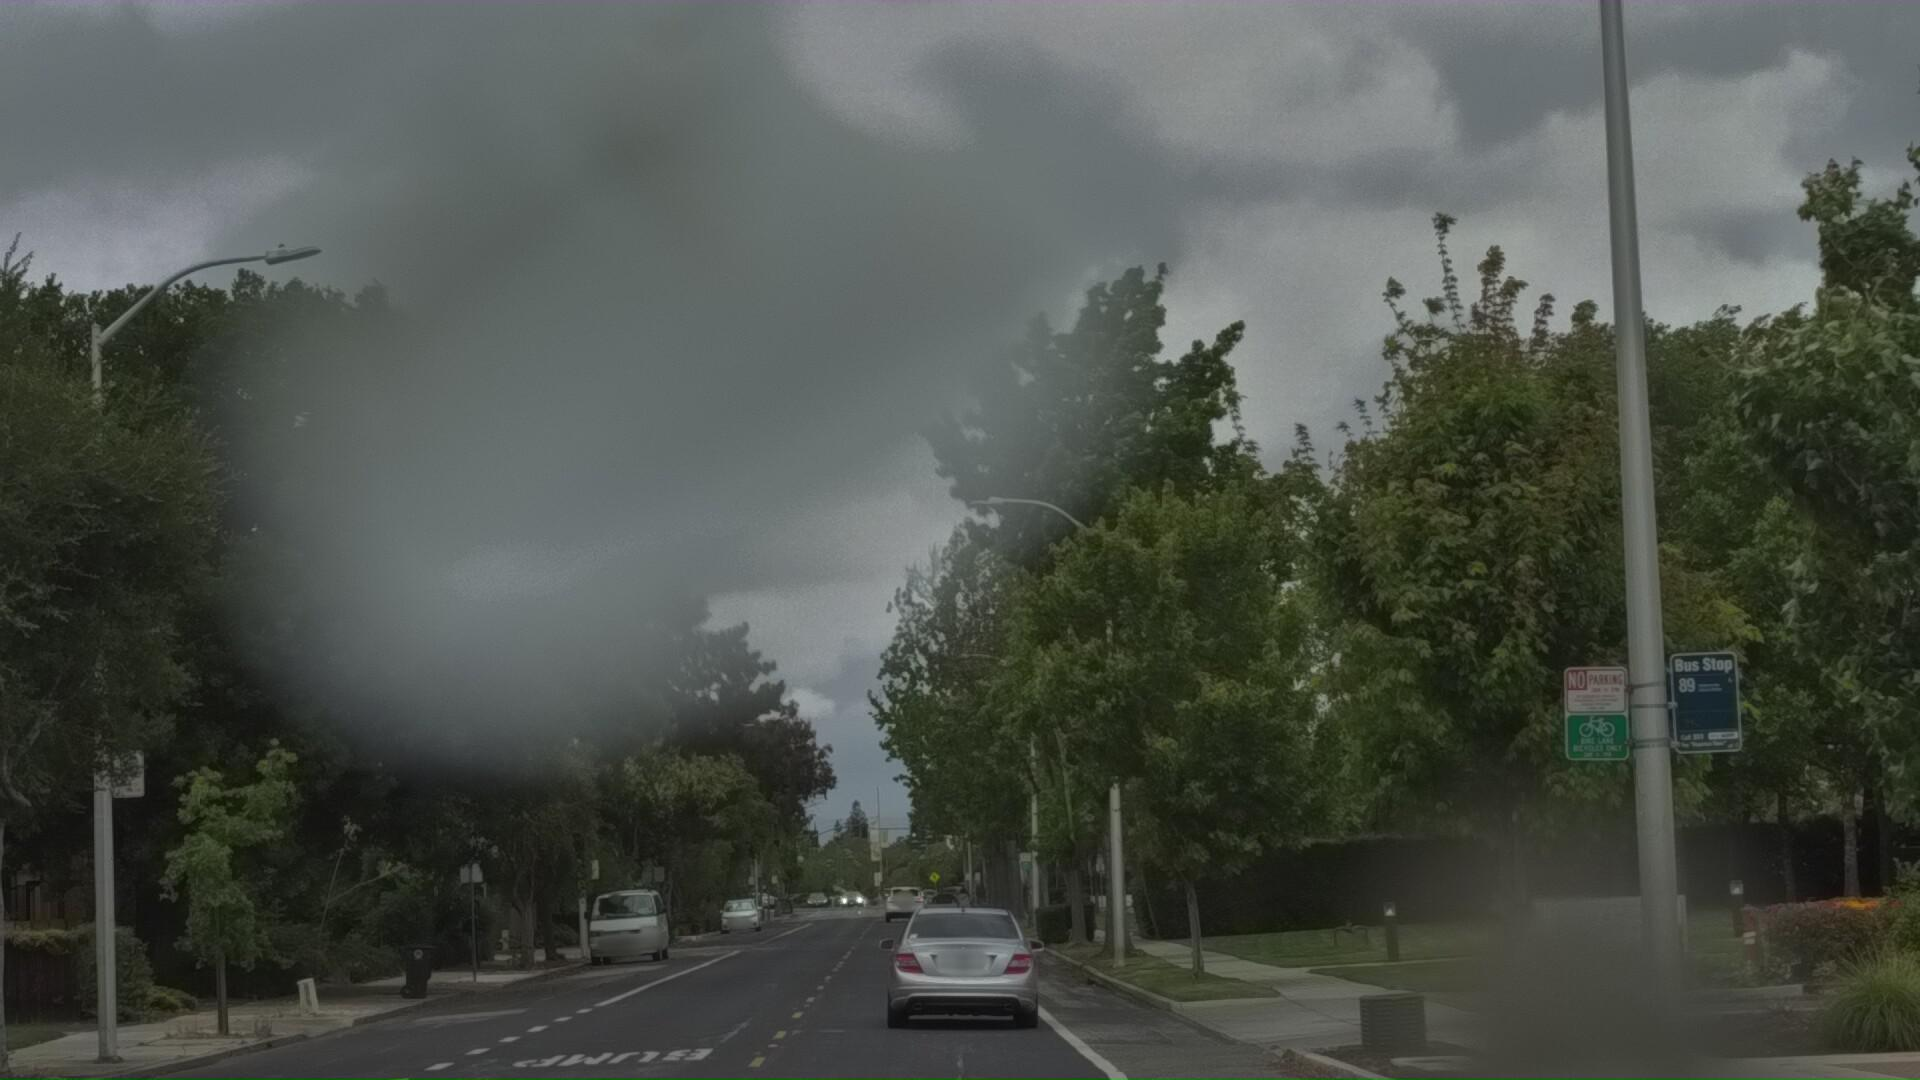car: (890, 928, 1062, 1080)
